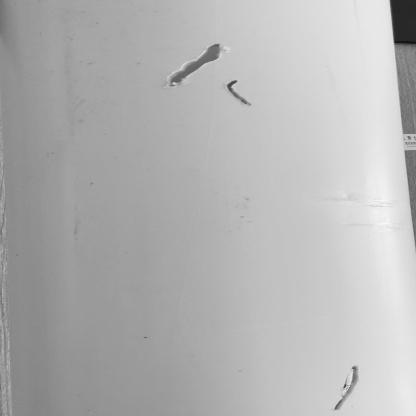fengxi: (164, 42, 224, 87), (332, 366, 363, 411), (221, 74, 253, 111)
